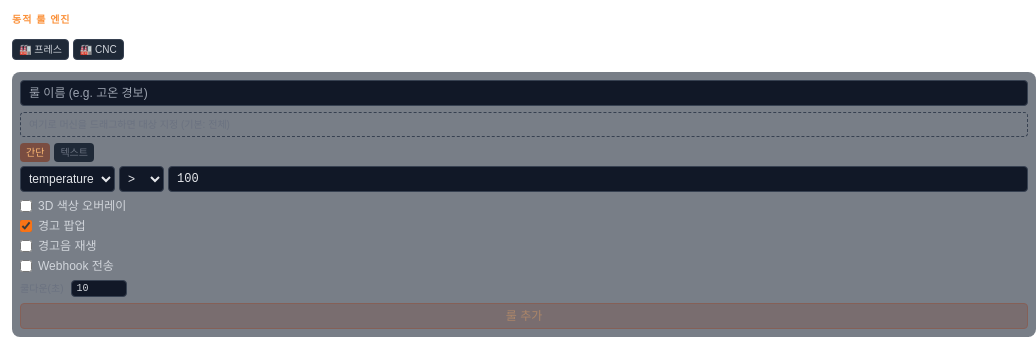
Test case: RuleEditorPanel — B: simple condition builder mode › switching back to simple mode resets the simple fields to defaults
Click the button "텍스트": point(74, 152) [54, 143, 94, 162]
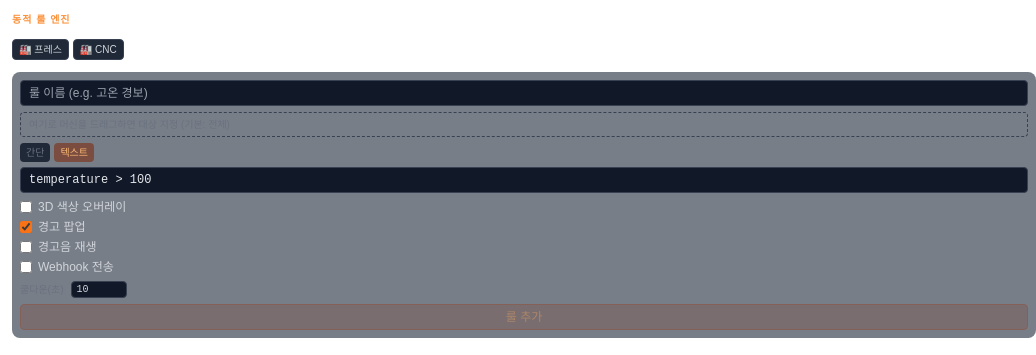
In the 1st field showing "temperature > 100": point(524, 180) [20, 167, 1028, 193], type "vibration > 5 && weird syntax"
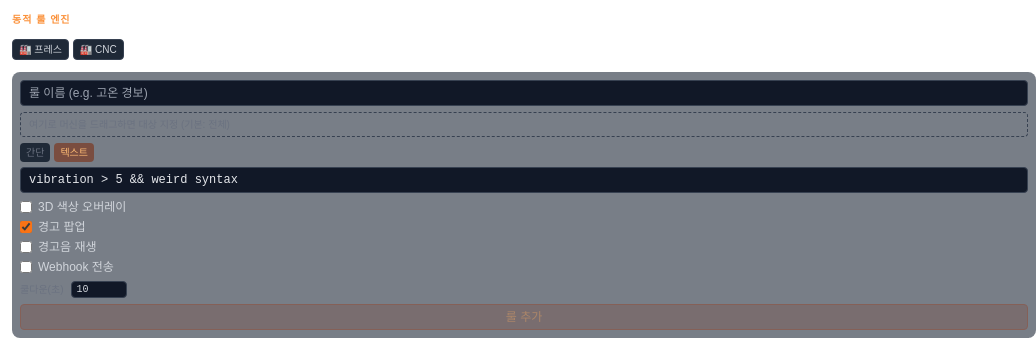
Click the button "간단": point(35, 152) [20, 143, 50, 162]
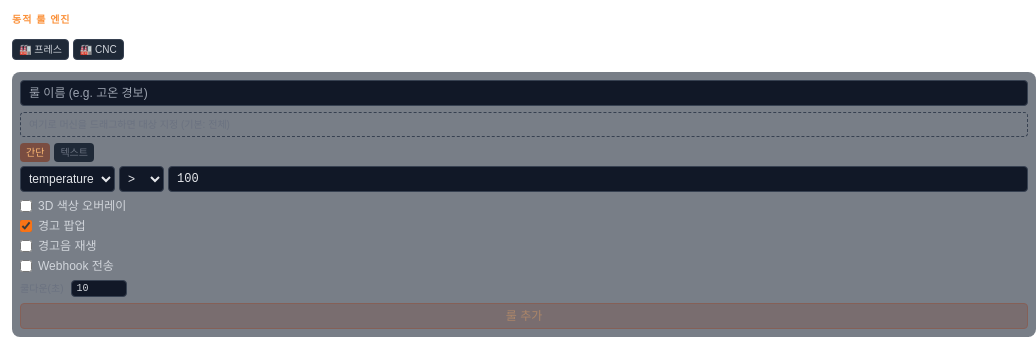
Now the 1st dropdown showing "temperature" is shown, box [20, 166, 115, 192]
Now the 1st field showing "100" is shown, box [168, 166, 1028, 192]
